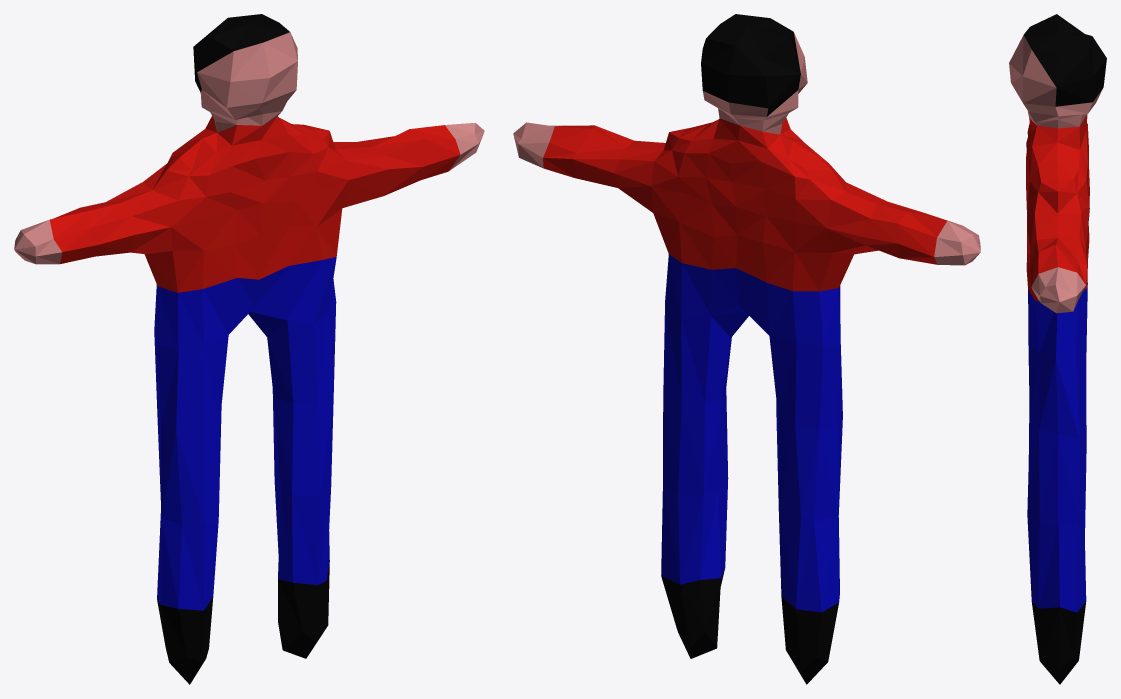
File: persona1.obj
3 renders of one model, left to right at view 1: azimuth 30°, elevation 25°; view 2: azimuth 150°, elevation 25°; view 3: azimuth 270°, elevation 25°, orthographic. The views are drawn at different scales.
Visible parts, largest first — view 1: persona1_Cube; view 2: persona1_Cube; view 3: persona1_Cube.
Boxes of the visible parts, left/top/right/bottom form: persona1_Cube: left=14, top=14, right=484, bottom=684; persona1_Cube: left=513, top=14, right=980, bottom=684; persona1_Cube: left=1009, top=14, right=1106, bottom=684.
Bounding box in the file's own units: 5.45 × 7.18 × 1.02.
